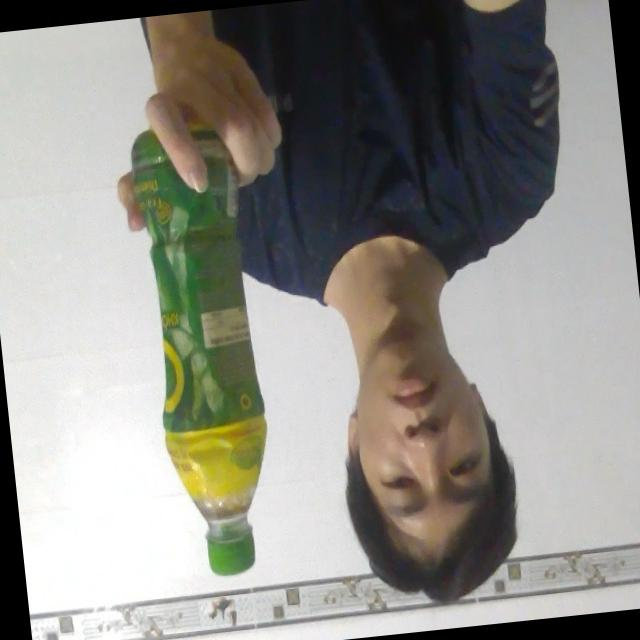tra xanh khong do: (108, 108, 312, 590)
